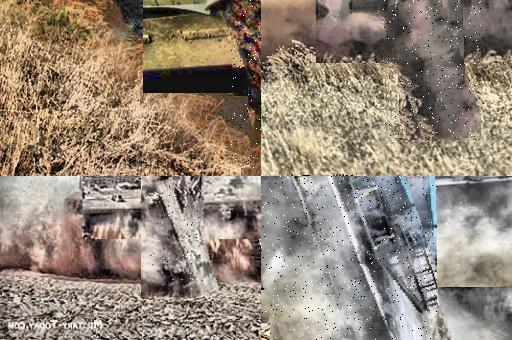tanks: (262, 177, 438, 340), (383, 1, 481, 139), (148, 177, 205, 298), (253, 255, 262, 266), (254, 242, 262, 251)
